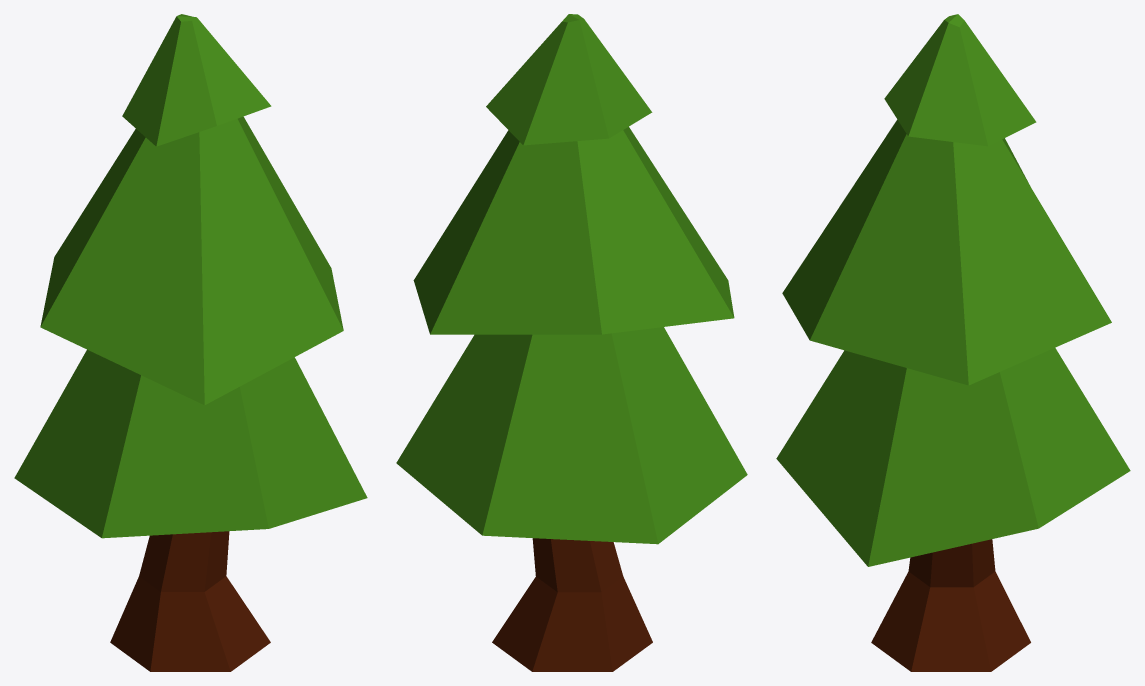
File: Tree.fbx
3 renders of one model, left to right at view 1: azimuth 30°, elevation 25°; view 2: azimuth 150°, elevation 25°; view 3: azimuth 270°, elevation 25°, orthographic.
Visible parts, largest first — view 1: Cone; view 2: Cone; view 3: Cone.
Part boxes in pixels (bbox=[...]): Cone: bbox=[14, 14, 367, 671]; Cone: bbox=[396, 14, 747, 671]; Cone: bbox=[776, 14, 1130, 671].
Bounding box in the file's own units: 1012 × 1982 × 1021.
